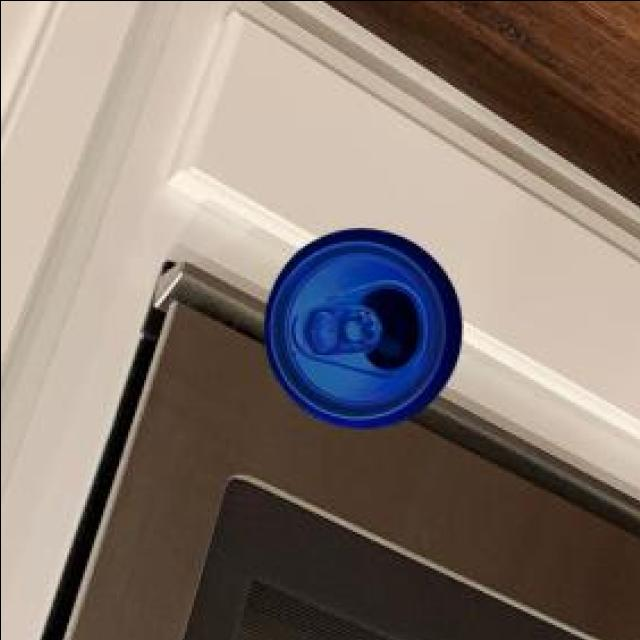logam: (260, 233, 457, 430)
